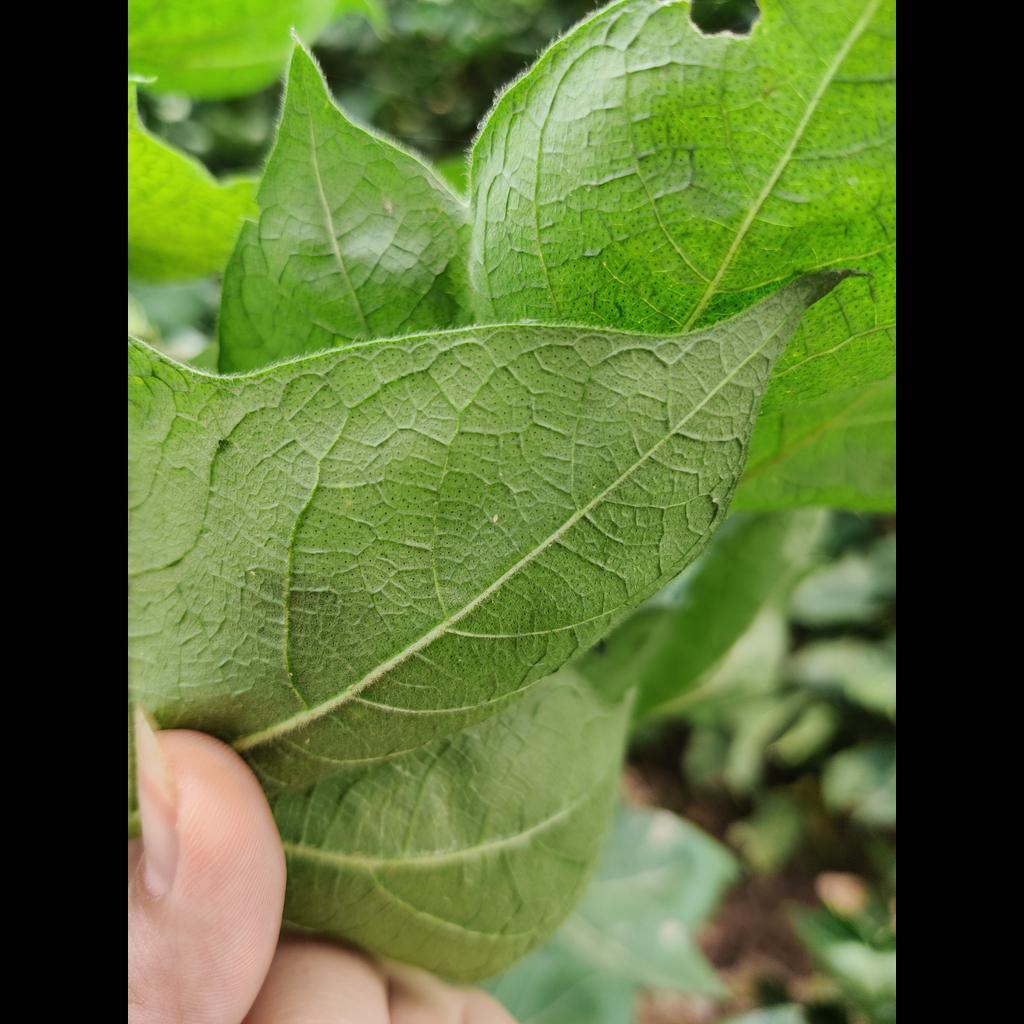nymph: (382, 198, 394, 215), (305, 737, 311, 745), (493, 514, 498, 523), (250, 571, 256, 576)
